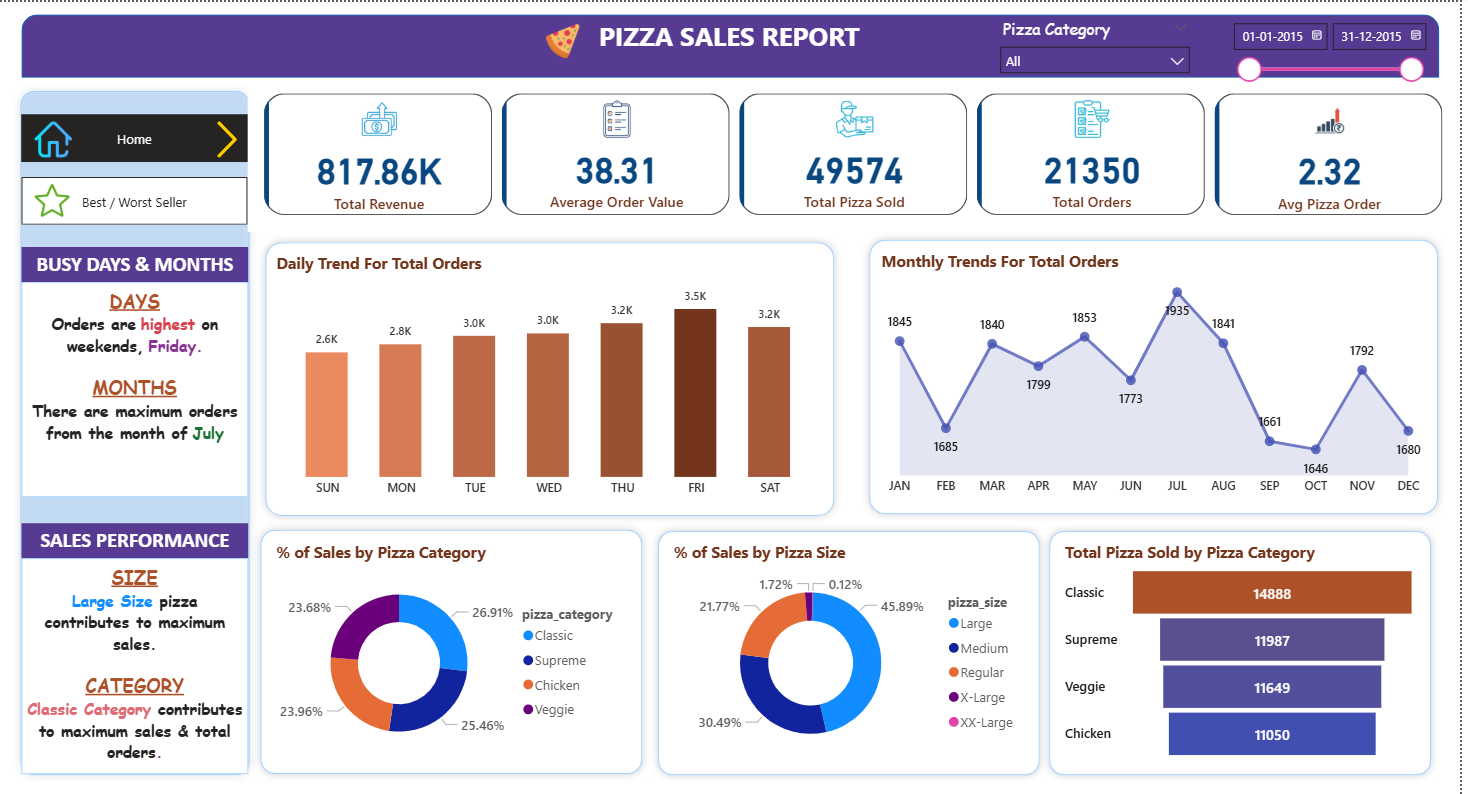

The dashboard page shown, as its layout file describes it:
{"tool":"powerbi","page":{"name":"Home","canvas":[1500,820],"ordinal":0},"visuals":[{"type":"shape","box":[14.1,83.3,251.3,718.6],"z":0},{"type":"cardVisual","fields":{"Data":["pizza_sales.Total Revenue","pizza_sales.Average Order Value","pizza_sales.Total Pizza Sold","pizza_sales.Total Orders","pizza_sales.Avg Pizza Order"]},"box":[255.5,77.6,1245.2,159.5],"z":1000},{"type":"shape","box":[22.6,12.7,1456,64.9],"z":2000},{"type":"textbox","box":[610.4,11.8,280.7,47.3],"z":3000},{"type":"image","box":[548.3,21.7,61.7,36.7],"z":5000},{"type":"shape","box":[265.4,238.6,600,297],"z":6000},{"type":"columnChart","title":"Daily Trend For Total Orders","fields":{"Category":["pizza_sales.Order Day"],"Y":["pizza_sales.Total Orders"]},"box":[279.5,256.9,570.4,261.2],"z":7000},{"type":"shape","box":[885.2,235.8,600,297.9],"z":8000},{"type":"areaChart","title":"Monthly Trends For Total Orders","fields":{"Category":["pizza_sales.Order Month"],"Y":["pizza_sales.Total Orders"]},"box":[900.7,254.1,570.4,261.2],"z":9000},{"type":"shape","box":[261.2,533.6,408,266.8],"z":10000},{"type":"shape","box":[669.2,535.1,408,266.8],"z":11000},{"type":"shape","box":[1070.1,535.1,408,266.8],"z":12000},{"type":"donutChart","title":"% of Sales by Pizza Category","fields":{"Category":["pizza_sales.pizza_category"],"Y":["pizza_sales.Total Revenue"]},"box":[279.5,553.4,371.3,230.1],"z":13000},{"type":"donutChart","title":"% of Sales by Pizza Size","fields":{"Y":["pizza_sales.Total Revenue"],"Category":["pizza_sales.pizza_size"]},"box":[687.5,553.4,371.3,230.1],"z":14000},{"type":"funnel","title":"Total Pizza Sold by Pizza Category","fields":{"Category":["pizza_sales.pizza_category"],"Y":["pizza_sales.Total Pizza Sold"]},"box":[1089.9,553.4,371,230.1],"z":15000},{"type":"textbox","box":[22.6,535.1,232.9,36.7],"z":16000},{"type":"textbox","box":[22.6,571.8,232.9,221.6],"z":17000},{"type":"textbox","box":[22.6,251.3,232.9,36.7],"z":18000},{"type":"textbox","box":[22.6,288,232.9,221],"z":19000},{"type":"slicer","title":"Pizza Category","fields":{"Values":["pizza_sales.pizza_category"]},"box":[1017.9,11.3,214.6,64.9],"z":20000},{"type":"slicer","title":"Pizza Category","fields":{"Values":["pizza_sales.order_date"]},"box":[1255.1,11.3,216,84.7],"z":21000},{"type":"pageNavigator","box":[22.6,115.8,232.9,49.4],"z":22000},{"type":"pageNavigator","box":[22.6,179.3,232.9,49.4],"z":23000},{"type":"image","box":[213.2,121.4,42.4,38.1],"z":24000},{"type":"image","box":[33.9,121.4,45.2,38.1],"z":25000},{"type":"image","box":[33.9,186.4,42.4,35.3],"z":26000}]}

Visuals, with their boxes in screenshot pixels (x1, y1, x2, y2), scaled from the page's 1500x820 canvas onto the 1468x794 screenshot:
shape: Rect(14, 81, 260, 776)
cardVisual - pizza_sales.Total Revenue x pizza_sales.Average Order Value: Rect(250, 75, 1467, 230)
shape: Rect(22, 12, 1447, 75)
textbox: Rect(597, 11, 872, 57)
image: Rect(537, 21, 597, 57)
shape: Rect(260, 231, 847, 519)
"Daily Trend For Total Orders" columnChart: Rect(274, 249, 832, 502)
shape: Rect(866, 228, 1454, 517)
"Monthly Trends For Total Orders" areaChart: Rect(881, 246, 1440, 499)
shape: Rect(256, 517, 655, 775)
shape: Rect(655, 518, 1054, 776)
shape: Rect(1047, 518, 1447, 776)
"% of Sales by Pizza Category" donutChart: Rect(274, 536, 637, 759)
"% of Sales by Pizza Size" donutChart: Rect(673, 536, 1036, 759)
"Total Pizza Sold by Pizza Category" funnel: Rect(1067, 536, 1430, 759)
textbox: Rect(22, 518, 250, 554)
textbox: Rect(22, 554, 250, 768)
textbox: Rect(22, 243, 250, 279)
textbox: Rect(22, 279, 250, 493)
"Pizza Category" slicer: Rect(996, 11, 1206, 74)
"Pizza Category" slicer: Rect(1228, 11, 1440, 93)
pageNavigator: Rect(22, 112, 250, 160)
pageNavigator: Rect(22, 174, 250, 221)
image: Rect(209, 118, 250, 154)
image: Rect(33, 118, 77, 154)
image: Rect(33, 180, 75, 215)
